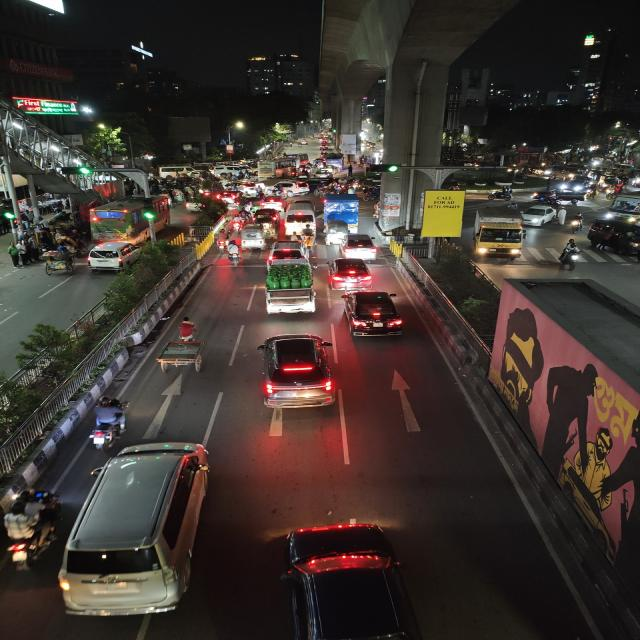bus: (87, 195, 170, 246), (606, 193, 640, 225), (273, 157, 302, 178)
car: (58, 437, 213, 621), (270, 518, 426, 640), (252, 331, 342, 414), (340, 287, 406, 341), (587, 219, 640, 263), (324, 256, 375, 291), (86, 241, 140, 273), (338, 232, 381, 260), (518, 202, 560, 228), (285, 200, 316, 220), (252, 207, 280, 226)
cng: (242, 226, 266, 256), (259, 221, 277, 242), (274, 181, 297, 197)
motorcycle: (0, 488, 61, 574), (81, 395, 136, 453), (556, 240, 584, 274), (223, 240, 246, 268), (566, 212, 586, 234)
pedestrian: (8, 242, 25, 269)
pickup_van: (262, 254, 319, 319)
rickshaw: (152, 320, 212, 378), (41, 248, 76, 276), (298, 227, 317, 250)
truck: (471, 206, 527, 263), (321, 192, 362, 225)
